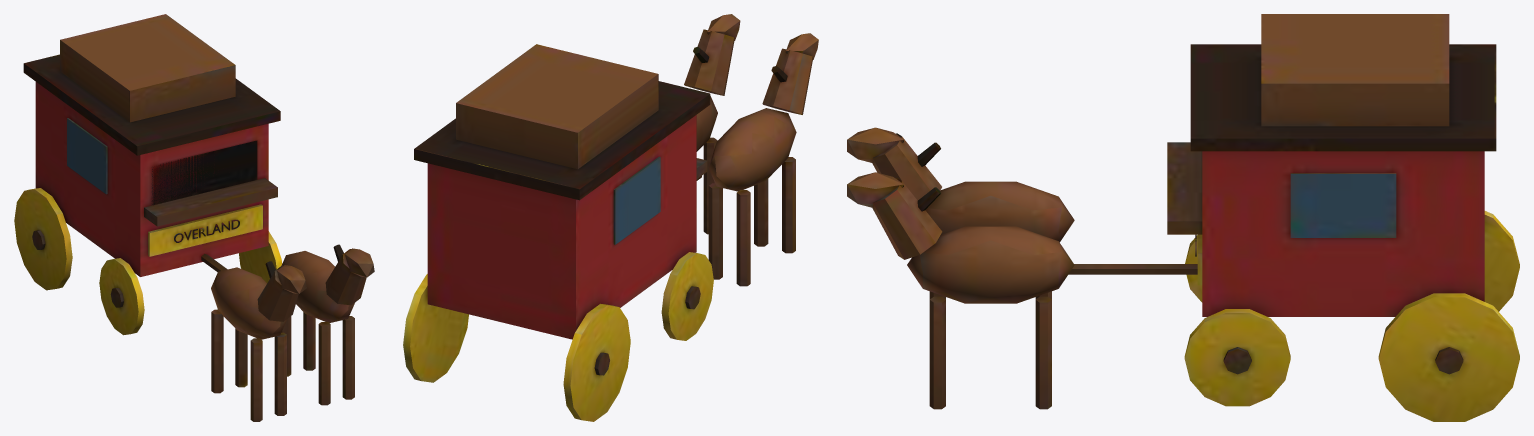
Rendered from diligencia.glb.
3 views of the same model, side by side, from view 1: azimuth 30°, elevation 25°; view 2: azimuth 150°, elevation 25°; view 3: azimuth 270°, elevation 25° (orthographic). The views are drawn at different scales.
Visible parts, largest first — view 1: diligencia; view 2: diligencia; view 3: diligencia.
Part boxes in pixels (x1,y1,x2,y2): diligencia: [14, 14, 374, 421]; diligencia: [403, 14, 818, 421]; diligencia: [847, 14, 1519, 421].
Bounding box in the file's own units: 2 × 3.07 × 5.72.
1 material, 1 textured.
